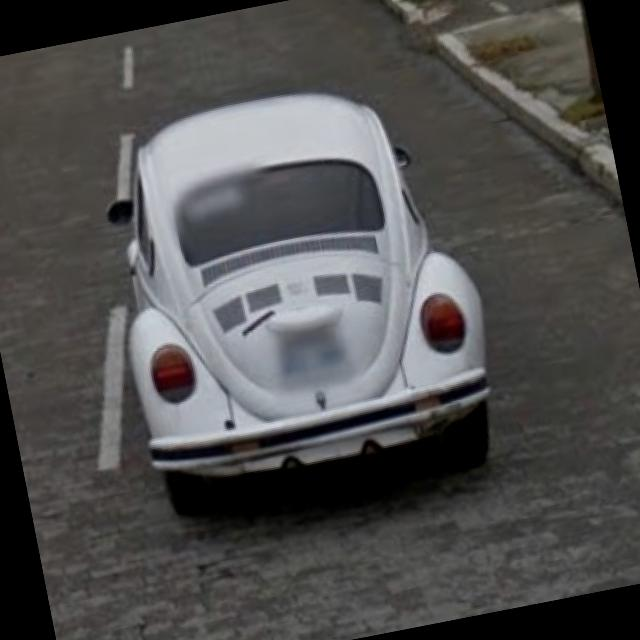car: (79, 58, 508, 514)
